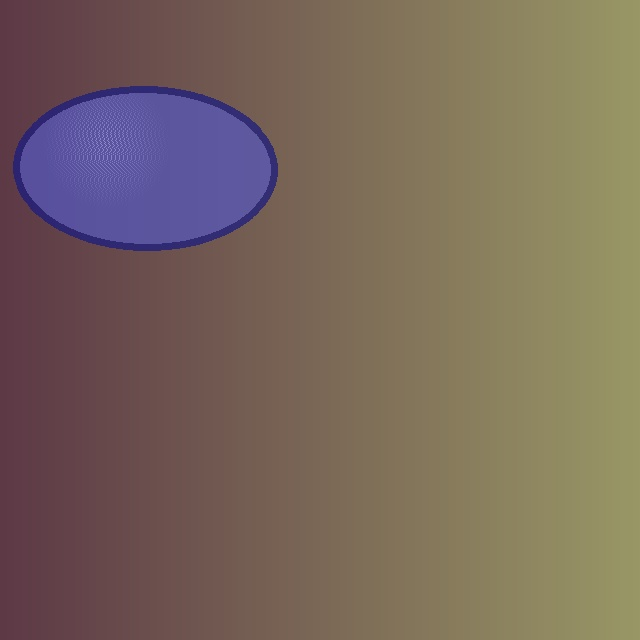lens: (16, 89, 274, 247)
